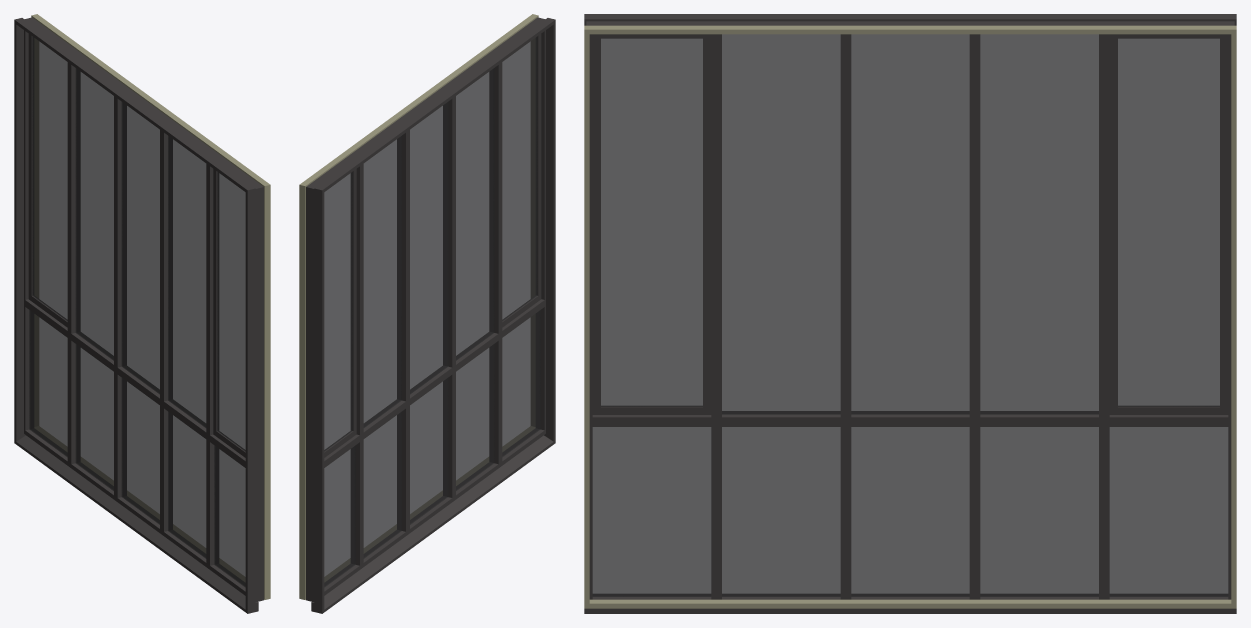
File: window3.FBX
The picture shows the model from 3 angles, left to right: view 1: azimuth 30°, elevation 25°; view 2: azimuth 150°, elevation 25°; view 3: azimuth 270°, elevation 25°; orthographic projection. The views are drawn at different scales.
Parts seen in each view (by area): view 1: 57:8:4; view 2: 57:8:4; view 3: 57:8:4.
Boxes of the visible parts, x1,y1,x2,y2 form: 57:8:4: (14, 14, 270, 613); 57:8:4: (299, 14, 555, 613); 57:8:4: (584, 14, 1236, 613).
Size of the model in its own units: 6.89 by 121 by 121.
